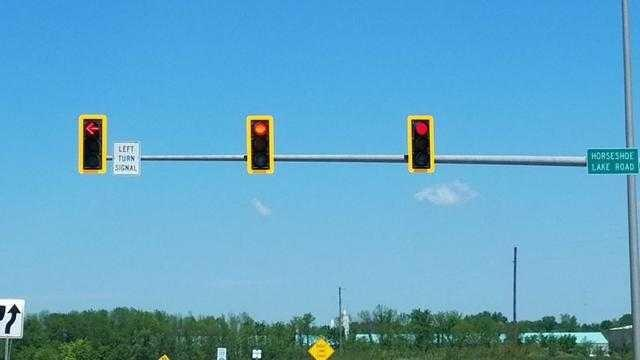red: (247, 117, 279, 181), (405, 113, 436, 174), (78, 112, 107, 175), (410, 116, 432, 138), (251, 116, 271, 138), (86, 121, 101, 137)
